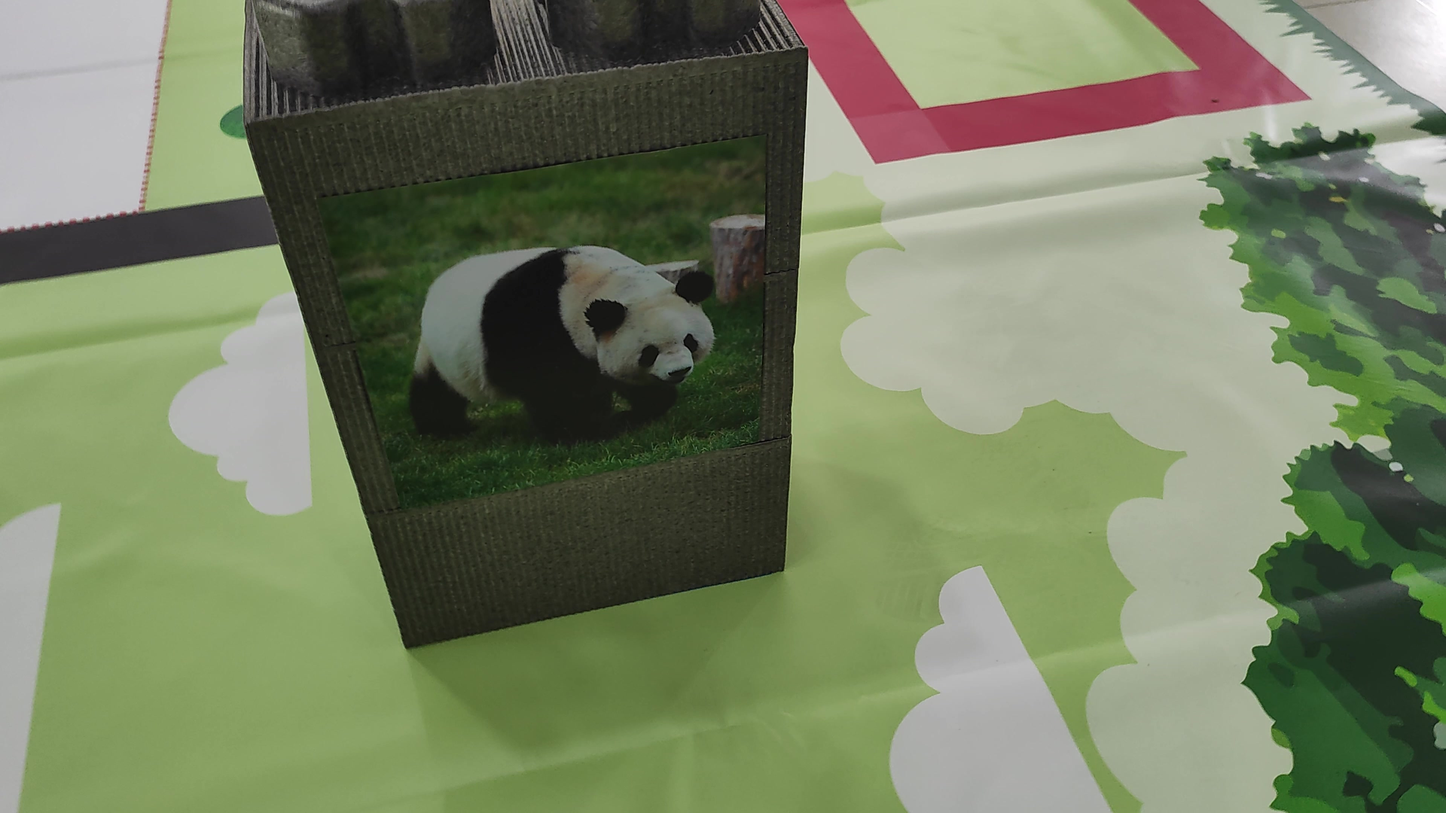panda: (341, 192, 738, 492)
